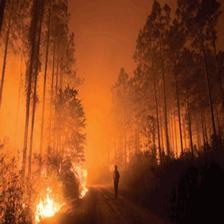fire: (20, 140, 92, 221)
